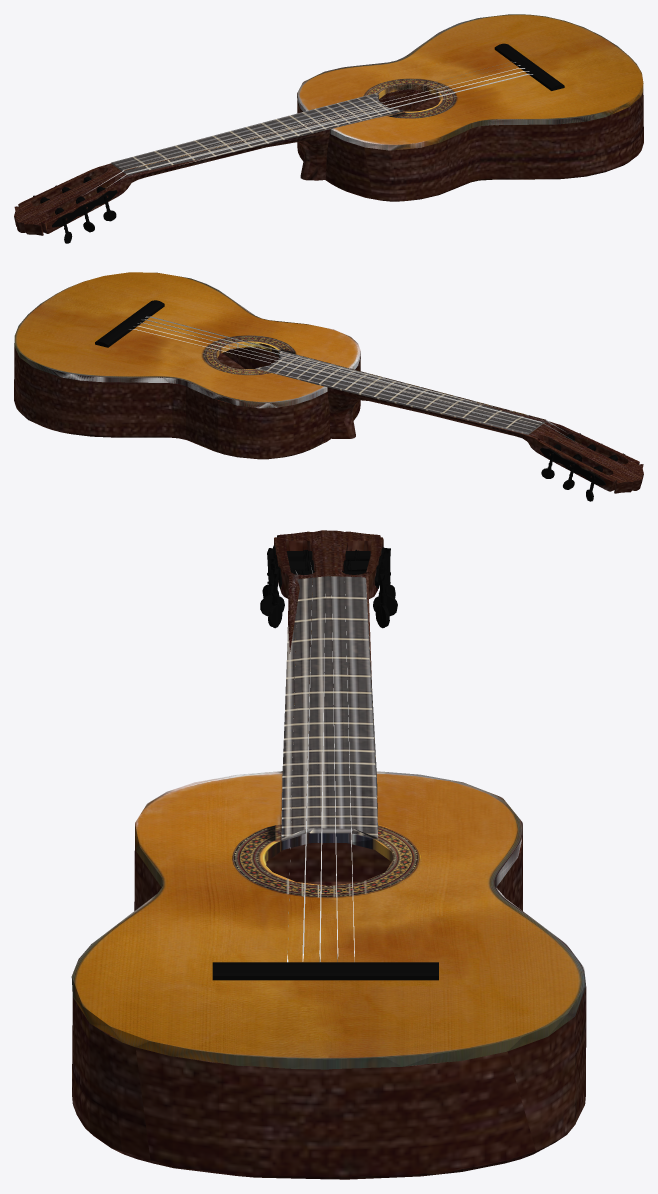
Rendered from Guitar.FBX.
3 views of the same model, one above another, from view 1: azimuth 30°, elevation 25°; view 2: azimuth 150°, elevation 25°; view 3: azimuth 270°, elevation 25° (orthographic). The views are drawn at different scales.
Parts seen in each view (by area): view 1: Guitar; view 2: Guitar; view 3: Guitar.
Part boxes in pixels (<box>): Guitar: <box>14,14,643,243</box>; Guitar: <box>14,272,643,501</box>; Guitar: <box>71,530,586,1179</box>.
Bounding box in the file's own units: 1250 × 463 × 136.
1 material, 1 textured.
